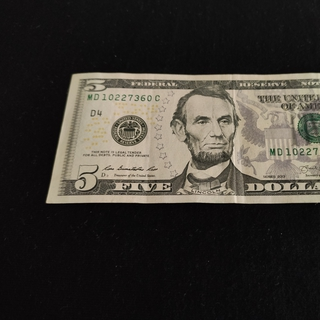5USDFront: (45, 69, 320, 205)
